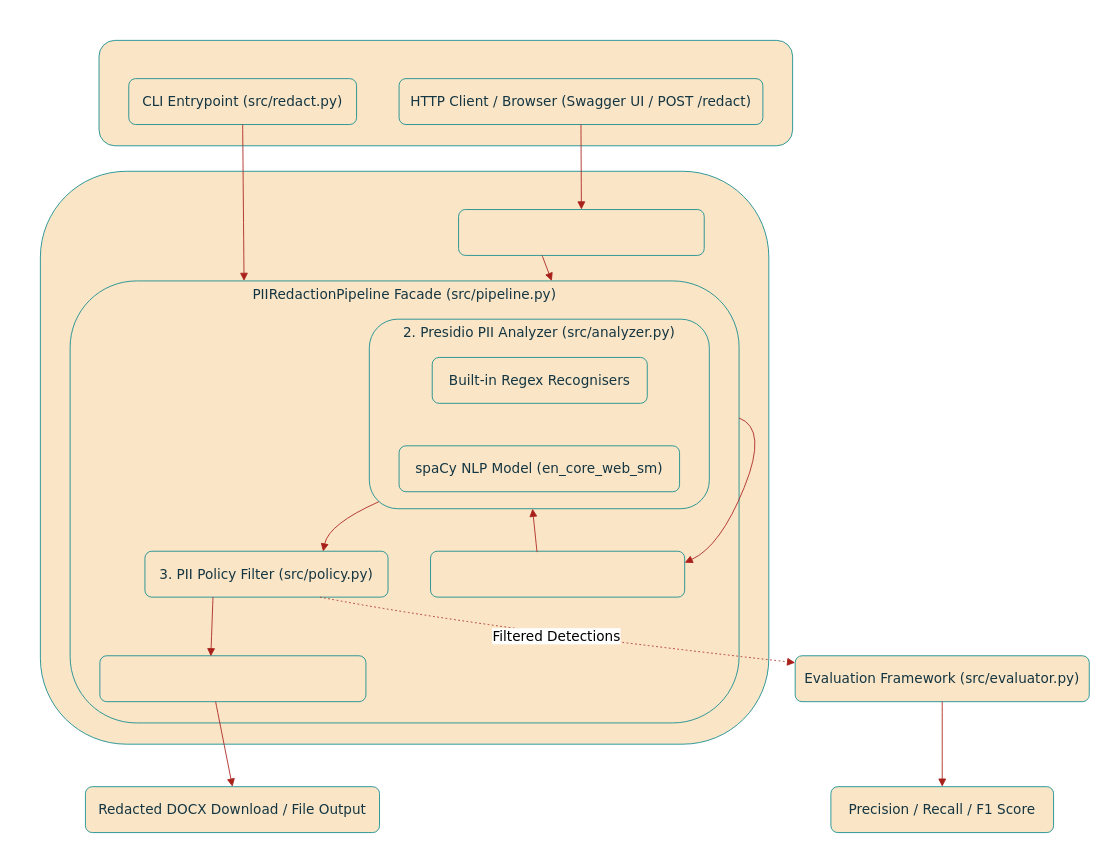
Image size: 1104x847. Some labels were removed from this diagram. Each missing label, with the box of its shape:
1. Text Extractor (src/extractor.py): (430, 550, 685, 597)
4. DOCX Redactor (src/redactor.py): (99, 655, 366, 702)
Client / Invocation Layer: (98, 40, 793, 146)
FastAPI Web Server (src/api.py): (458, 209, 704, 255)
Render Cloud Deployment Boundary: (40, 170, 769, 744)
